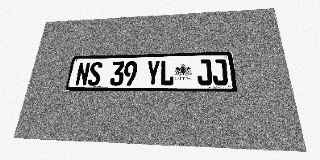3: (110, 61, 125, 86)
9: (123, 61, 138, 86)
J: (211, 59, 228, 86), (197, 59, 213, 86)
L: (160, 60, 174, 86)
N: (75, 62, 91, 86)
S: (87, 62, 103, 86)
Y: (146, 60, 160, 86)
